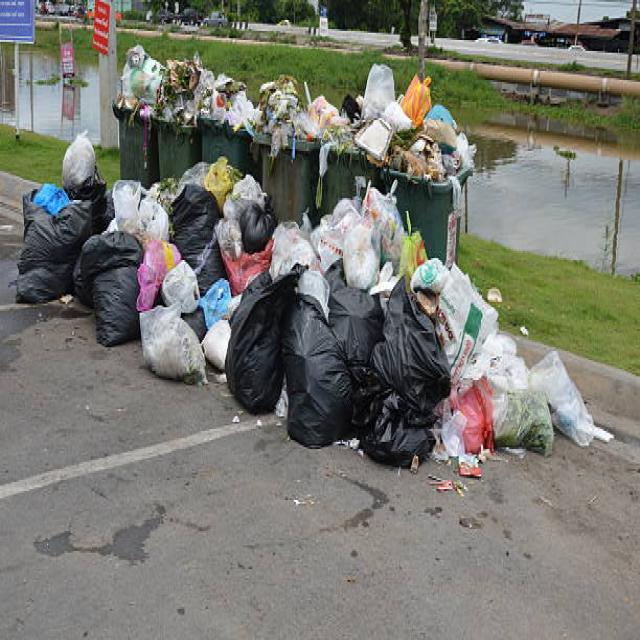garbage: (286, 181, 492, 498), (112, 158, 287, 422), (12, 128, 122, 347), (341, 62, 476, 190), (486, 330, 597, 474), (118, 46, 256, 136), (253, 71, 345, 165)
